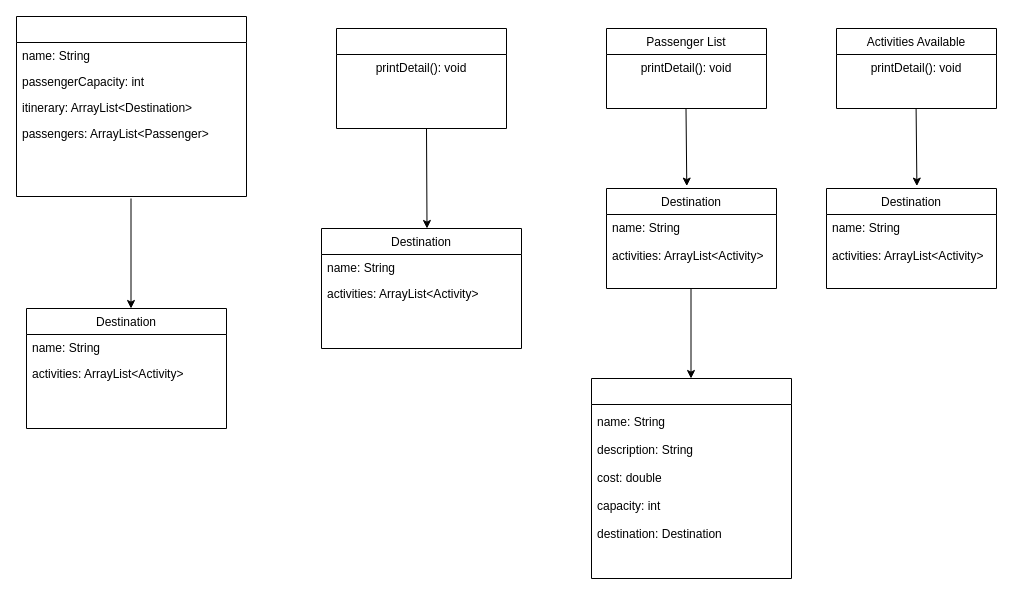
The diagram is 1013 pixels wide and 595 high, and some of its shapes have lost their labels. Here are the shapes that lost their labels. From the top down, the box of each, then its label:
(336, 28, 506, 128): Itinerary
(16, 16, 246, 196): Travel Package
(590, 378, 792, 578): Activity
